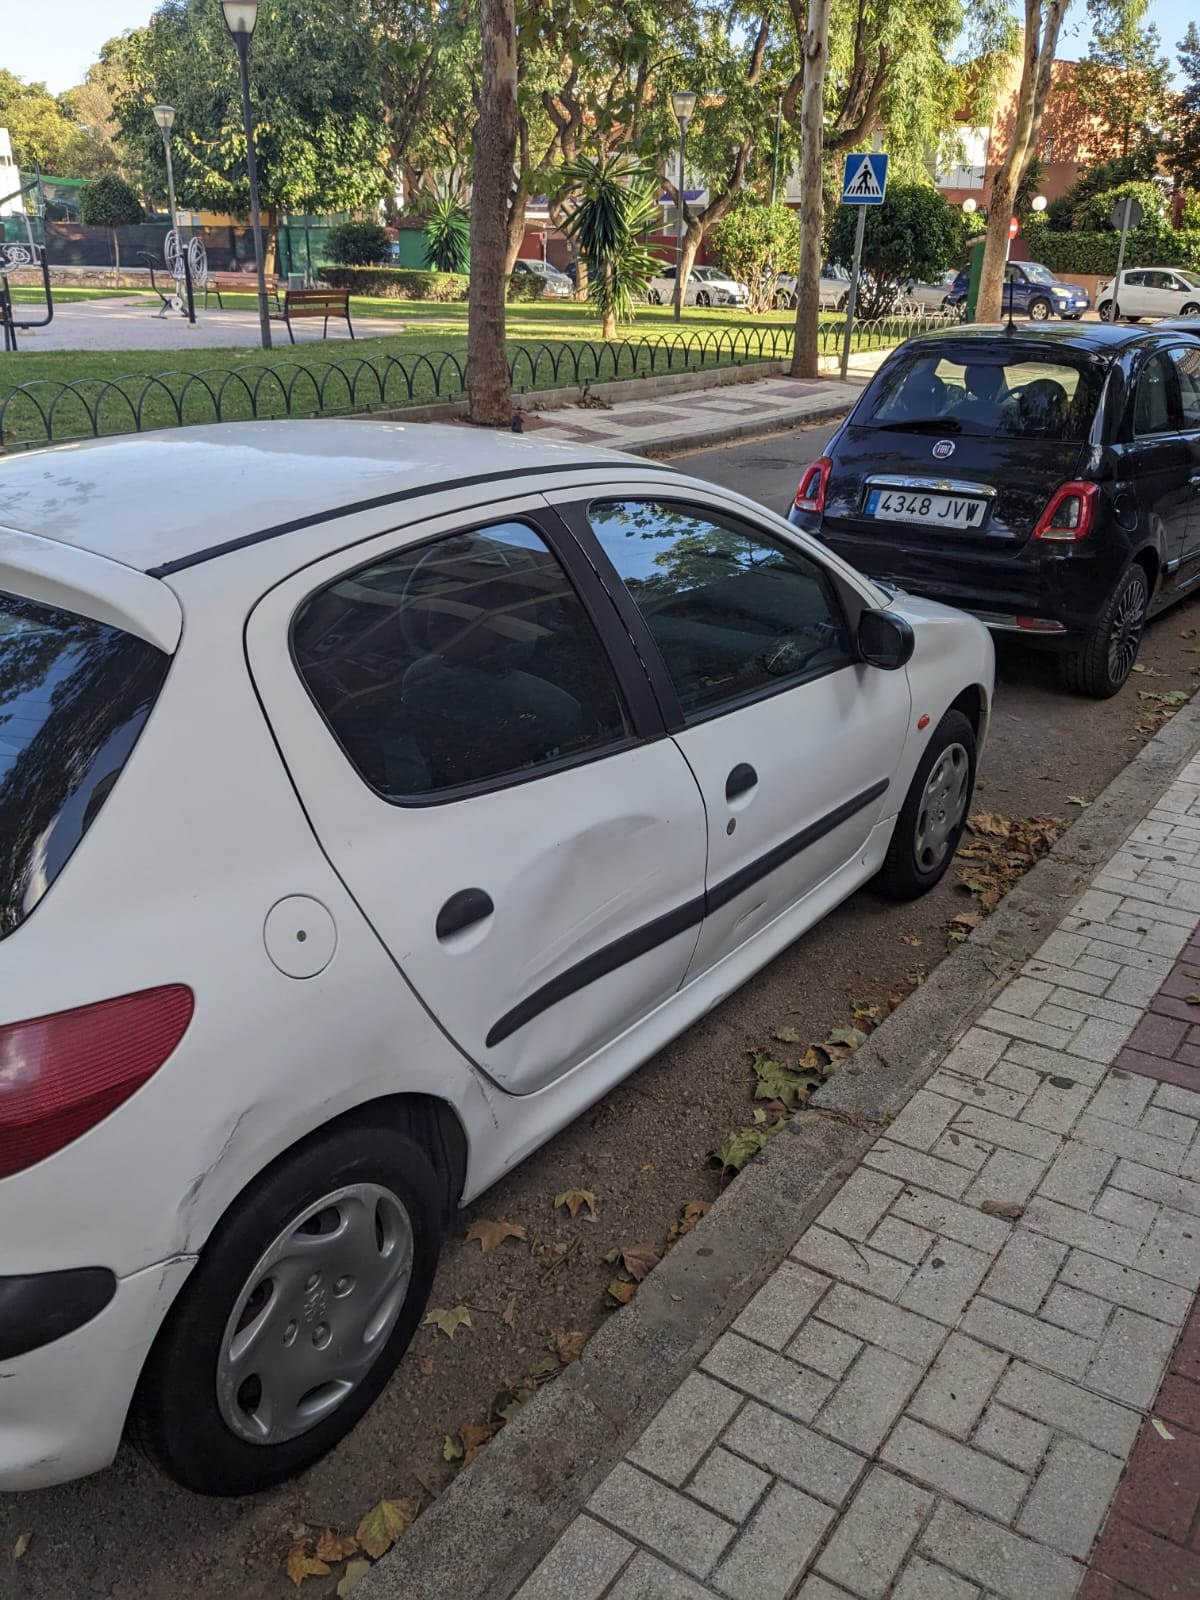car: (1, 382, 1012, 1550), (780, 301, 1199, 682), (955, 253, 1083, 321), (649, 256, 758, 329), (1089, 257, 1199, 325), (512, 248, 575, 301)
